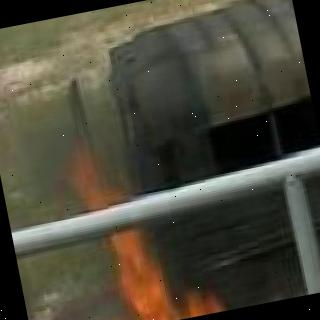fire: (70, 148, 227, 320)
